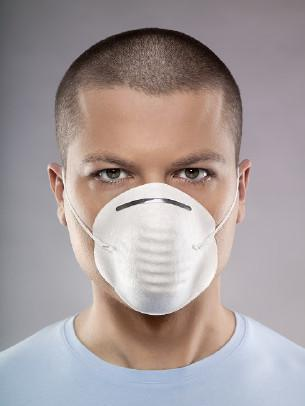OK: (60, 124, 243, 311)
